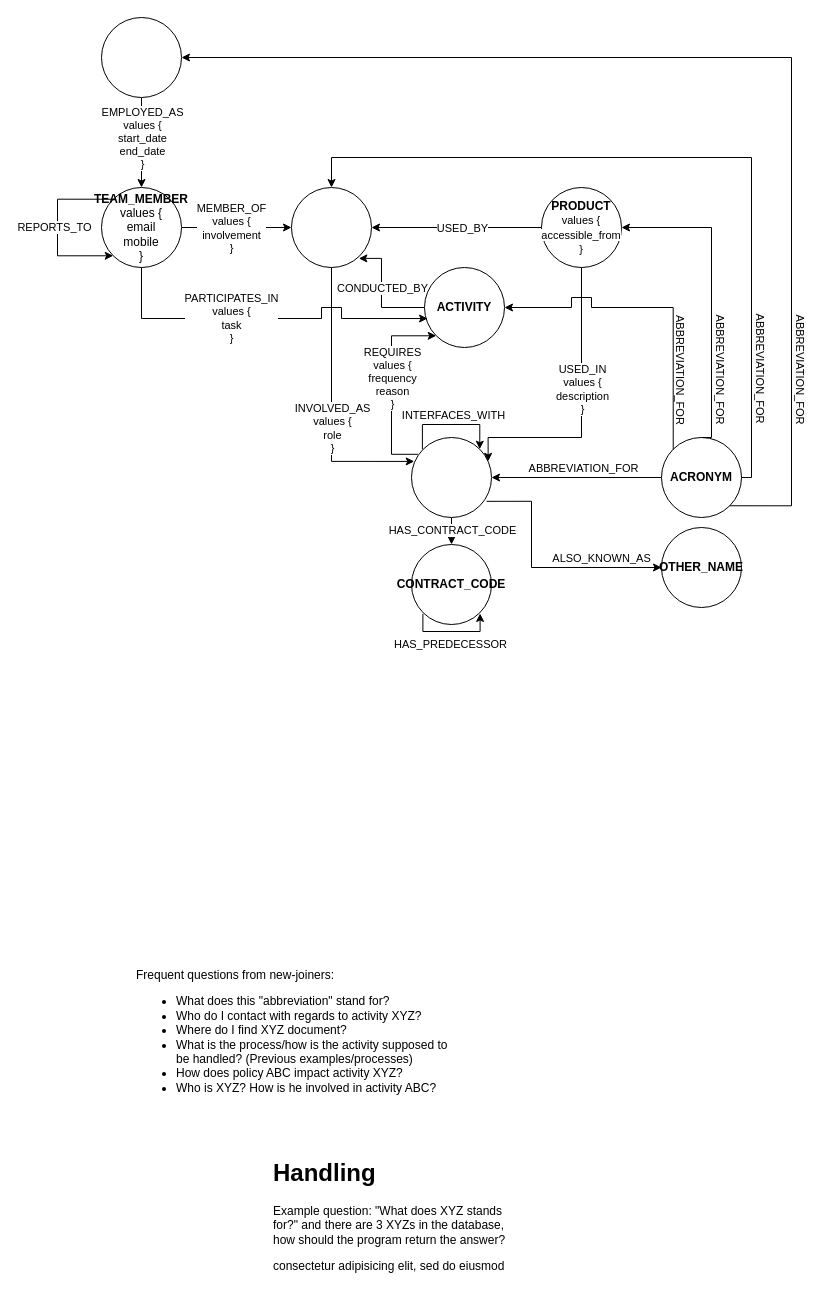
Image size: 825x1304. Some labels were removed from this diagram. Each missing label, with the centre of its shape:
"COMPANY" belongs at (141,57).
"SYSTEM NAME values { description }" belongs at (451,477).
"TEAM" belongs at (331,227).
